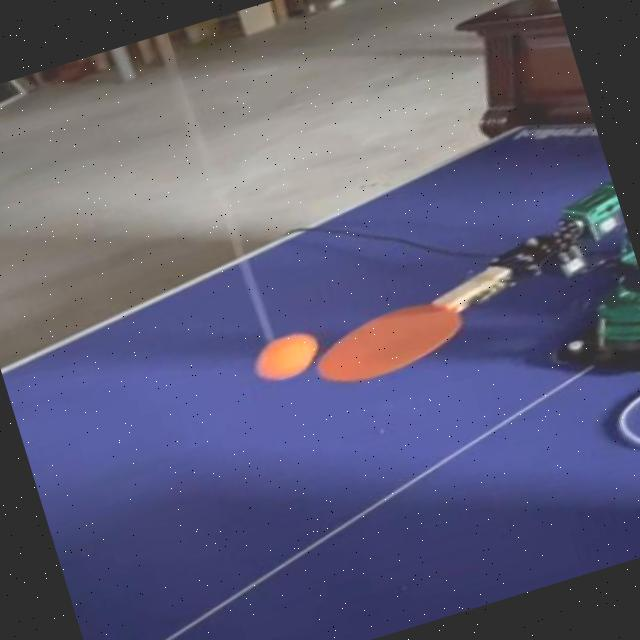ping-pong-ball: (252, 328, 321, 377)
